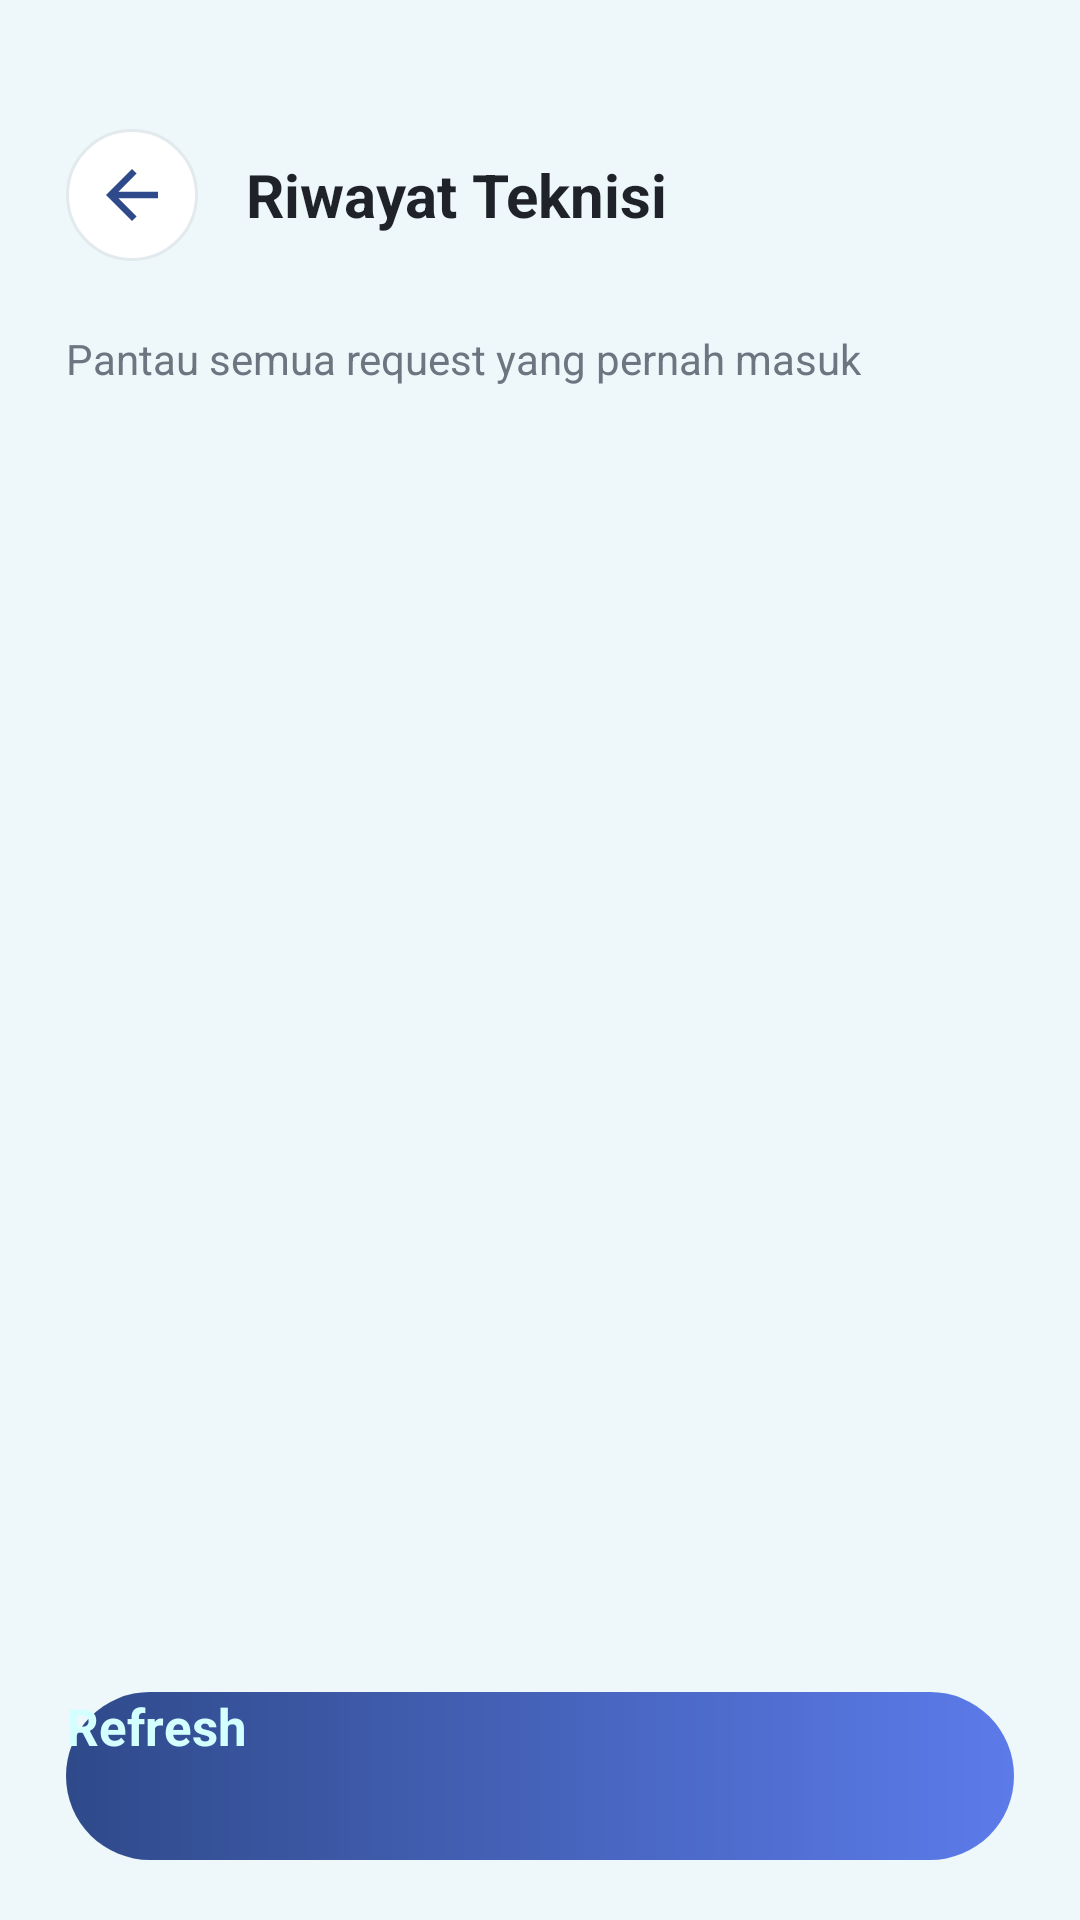

Where icons sit on this 1080px×1920px app screen, as (x1, y1, x2, y2):
back: (106, 169, 158, 221)
